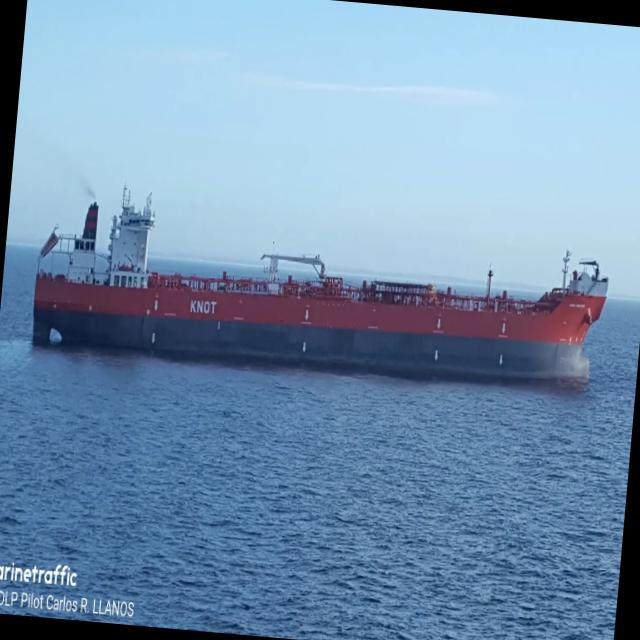Tanker: (32, 188, 608, 382)
